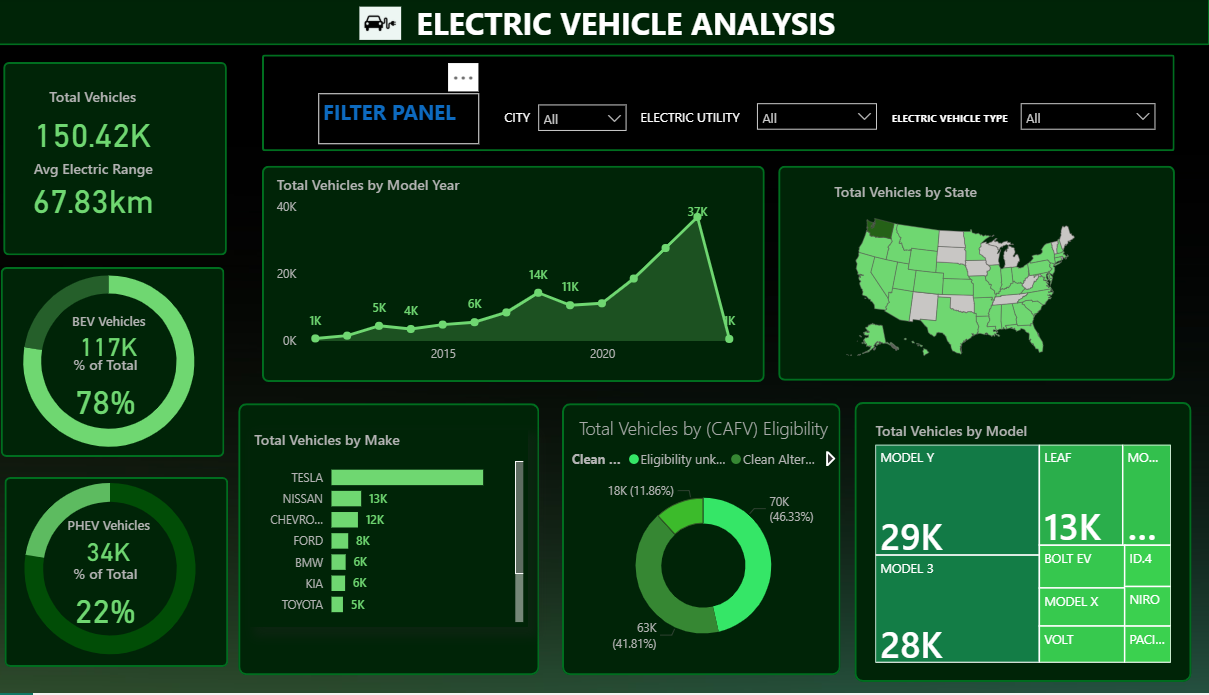

This screenshot's page, from the dashboard's own definition file:
{"tool":"powerbi","page":{"name":"Page 1","canvas":[1280,720],"ordinal":0},"visuals":[{"type":"shape","box":[10,0,1260,50],"z":0},{"type":"textbox","box":[60.5,0,1210.5,59.3],"z":1000},{"type":"shape","box":[22.1,67.4,231.4,200],"z":2000},{"type":"card","title":"Total Vehicles","fields":{"Values":["Electric_Vehicle_Population_Data.Total Vehicles"]},"box":[17.4,93,195.3,74.4],"z":3000},{"type":"card","title":"Avg Electric Range","fields":{"Values":["Electric_Vehicle_Population_Data.Avg Range"]},"box":[17.4,167.4,196.5,65.1],"z":4000},{"type":"shape","box":[19.8,279.1,231.4,196.5],"z":5000},{"type":"shape","box":[23.3,496.5,231.4,196.5],"z":6000},{"type":"donutChart","fields":{"Category":["Electric_Vehicle_Population_Data.Electric Vehicle Type"],"Y":["Electric_Vehicle_Population_Data.Total Vehicles"]},"box":[0,261.6,262.8,231.4],"z":7000},{"type":"card","title":"BEV Vehicles","fields":{"Values":["Electric_Vehicle_Population_Data.BEV Vehicles"]},"box":[76.7,325.6,109.3,52.3],"z":8000},{"type":"card","title":"% of Total","fields":{"Values":["Electric_Vehicle_Population_Data.% of BEV"]},"box":[60.5,369.8,133.7,74.4],"z":9000},{"type":"donutChart","fields":{"Category":["Electric_Vehicle_Population_Data.Electric Vehicle Type"],"Y":["Electric_Vehicle_Population_Data.Total Vehicles"]},"box":[0,475.6,265.1,231.4],"z":10000},{"type":"card","title":"PHEV Vehicles","fields":{"Values":["Electric_Vehicle_Population_Data.PHEV Vehicles"]},"box":[76.7,536,109.3,55.8],"z":11000},{"type":"card","title":"% of Total","fields":{"Values":["Electric_Vehicle_Population_Data.% of PHEV"]},"box":[60.5,586,133.7,74.4],"z":12000},{"type":"shape","box":[289.5,59.3,944.2,100],"z":13000},{"type":"shape","box":[289.5,174.3,520.1,223.7],"z":14000},{"type":"areaChart","fields":{"Category":["Electric_Vehicle_Population_Data.Model Year"],"Y":["Electric_Vehicle_Population_Data.Total Vehicles"]},"box":[300.5,183.9,491.3,204.5],"z":15000},{"type":"shape","box":[823.3,174.3,410.3,222.3],"z":16000},{"type":"shapeMap","fields":{"Category":["Electric_Vehicle_Population_Data.State"],"Value":["Electric_Vehicle_Population_Data.Total Vehicles"]},"box":[876.8,190.7,271.7,197.6],"z":17000},{"type":"shape","box":[264.8,419.9,311.5,281.3],"z":18000},{"type":"barChart","fields":{"Category":["Electric_Vehicle_Population_Data.Make"],"Y":["Electric_Vehicle_Population_Data.Total Vehicles"]},"box":[277.2,447.3,288.2,204.5],"z":19000},{"type":"shape","box":[599.7,419.9,288.2,281.3],"z":20000},{"type":"shape","box":[902.9,418.5,348.5,289.5],"z":21000},{"type":"treemap","fields":{"Group":["Electric_Vehicle_Population_Data.Model"],"Values":["Electric_Vehicle_Population_Data.Total Vehicles"]},"box":[919.4,437.7,315.6,255.2],"z":22000},{"type":"slicer","fields":{"Values":["Electric_Vehicle_Population_Data.City"]},"box":[565.1,101.2,111.6,52.3],"z":23000},{"type":"slicer","fields":{"Values":["Electric_Vehicle_Population_Data.Electric Utility"]},"box":[791.8,100.2,144.1,52.1],"z":24000},{"type":"slicer","fields":{"Values":["Electric_Vehicle_Population_Data.Electric Vehicle Type"]},"box":[1064,100,159.3,45.3],"z":25000},{"type":"textbox","box":[347.7,100,167.4,52.3],"z":26000},{"type":"textbox","box":[936,109.3,155.8,43],"z":27000},{"type":"textbox","box":[535.2,109.8,64.5,35.7],"z":28000},{"type":"textbox","box":[676.7,109.3,132.6,290.7],"z":29000},{"type":"image","box":[0,5.8,823.3,44.2],"z":30000},{"type":"donutChart","title":"Total Vehicles by (CAFV) Eligibility","fields":{"Category":["Electric_Vehicle_Population_Data.Clean Alternative Fuel Vehicle (CAFV) Eligibility"],"Y":["Electric_Vehicle_Population_Data.Total Vehicles"]},"box":[605.8,432.6,282.6,255.8],"z":31000}]}

Visuals, with their boxes in screenshot pixels (x1, y1, x2, y2), scaled from the page's 1280x720 canvas onto the 1209x695 screenshot:
shape: [left=9, top=0, right=1200, bottom=48]
textbox: [left=57, top=0, right=1200, bottom=57]
shape: [left=21, top=65, right=239, bottom=258]
"Total Vehicles" card: [left=16, top=90, right=201, bottom=162]
"Avg Electric Range" card: [left=16, top=162, right=202, bottom=224]
shape: [left=19, top=269, right=237, bottom=459]
shape: [left=22, top=479, right=241, bottom=669]
donutChart - Electric_Vehicle_Population_Data.Electric Vehicle Type x Electric_Vehicle_Population_Data.Total Vehicles: [left=0, top=253, right=248, bottom=476]
"BEV Vehicles" card: [left=72, top=314, right=176, bottom=365]
"% of Total" card: [left=57, top=357, right=183, bottom=429]
donutChart - Electric_Vehicle_Population_Data.Electric Vehicle Type x Electric_Vehicle_Population_Data.Total Vehicles: [left=0, top=459, right=250, bottom=682]
"PHEV Vehicles" card: [left=72, top=517, right=176, bottom=571]
"% of Total" card: [left=57, top=566, right=183, bottom=637]
shape: [left=273, top=57, right=1165, bottom=154]
shape: [left=273, top=168, right=765, bottom=384]
areaChart - Electric_Vehicle_Population_Data.Model Year x Electric_Vehicle_Population_Data.Total Vehicles: [left=284, top=178, right=748, bottom=375]
shape: [left=778, top=168, right=1165, bottom=383]
shapeMap - Electric_Vehicle_Population_Data.State x Electric_Vehicle_Population_Data.Total Vehicles: [left=828, top=184, right=1085, bottom=375]
shape: [left=250, top=405, right=544, bottom=677]
barChart - Electric_Vehicle_Population_Data.Make x Electric_Vehicle_Population_Data.Total Vehicles: [left=262, top=432, right=534, bottom=629]
shape: [left=566, top=405, right=839, bottom=677]
shape: [left=853, top=404, right=1182, bottom=683]
treemap - Electric_Vehicle_Population_Data.Model x Electric_Vehicle_Population_Data.Total Vehicles: [left=868, top=423, right=1166, bottom=669]
slicer - Electric_Vehicle_Population_Data.City: [left=534, top=98, right=639, bottom=148]
slicer - Electric_Vehicle_Population_Data.Electric Utility: [left=748, top=97, right=884, bottom=147]
slicer - Electric_Vehicle_Population_Data.Electric Vehicle Type: [left=1005, top=97, right=1155, bottom=140]
textbox: [left=328, top=97, right=487, bottom=147]
textbox: [left=884, top=106, right=1031, bottom=147]
textbox: [left=506, top=106, right=566, bottom=140]
textbox: [left=639, top=106, right=764, bottom=386]
image: [left=0, top=6, right=778, bottom=48]
"Total Vehicles by (CAFV) Eligibility" donutChart: [left=572, top=418, right=839, bottom=664]
